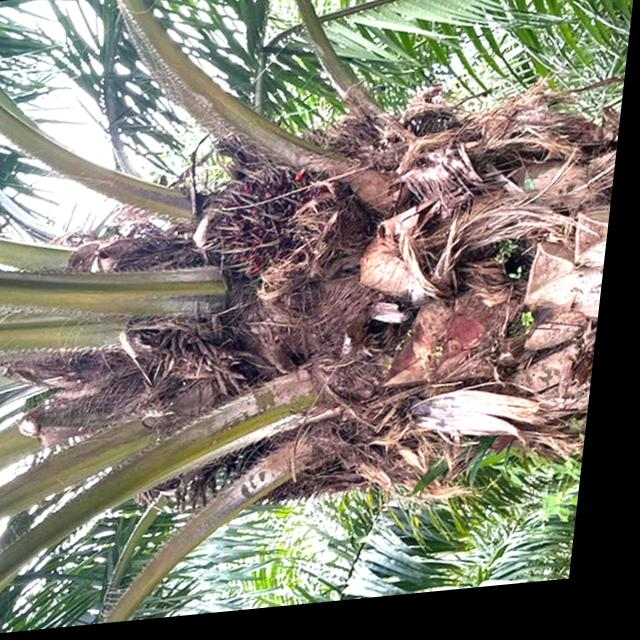ripe: (201, 152, 326, 302)
